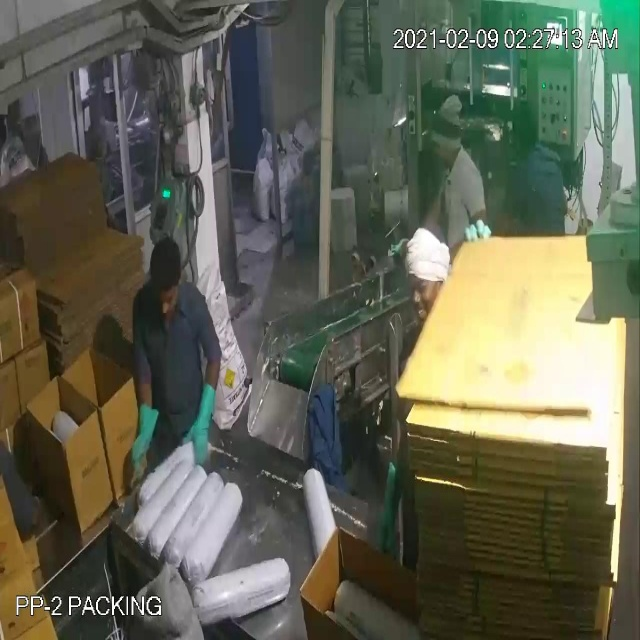Guantes: (370, 443, 408, 572), (124, 388, 166, 493), (180, 377, 220, 469)
